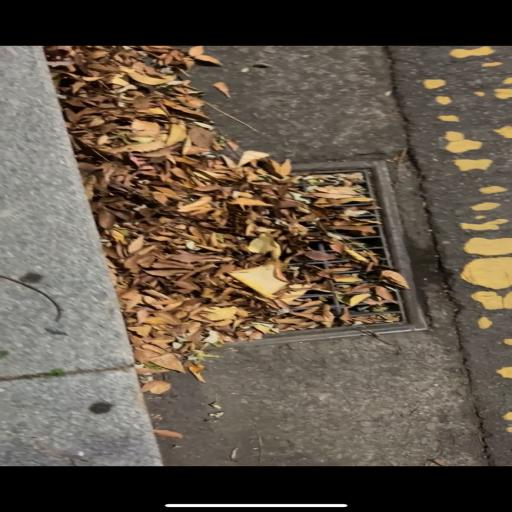debris: (92, 172, 397, 346), (320, 232, 378, 270), (297, 248, 335, 260), (380, 271, 398, 282), (212, 175, 243, 181), (367, 218, 381, 224)
drain: (92, 173, 409, 346)
